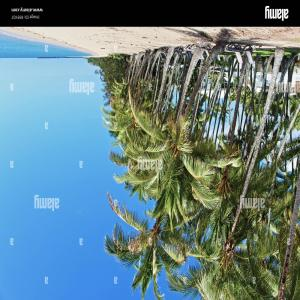palm tree: (92, 34, 300, 299)
